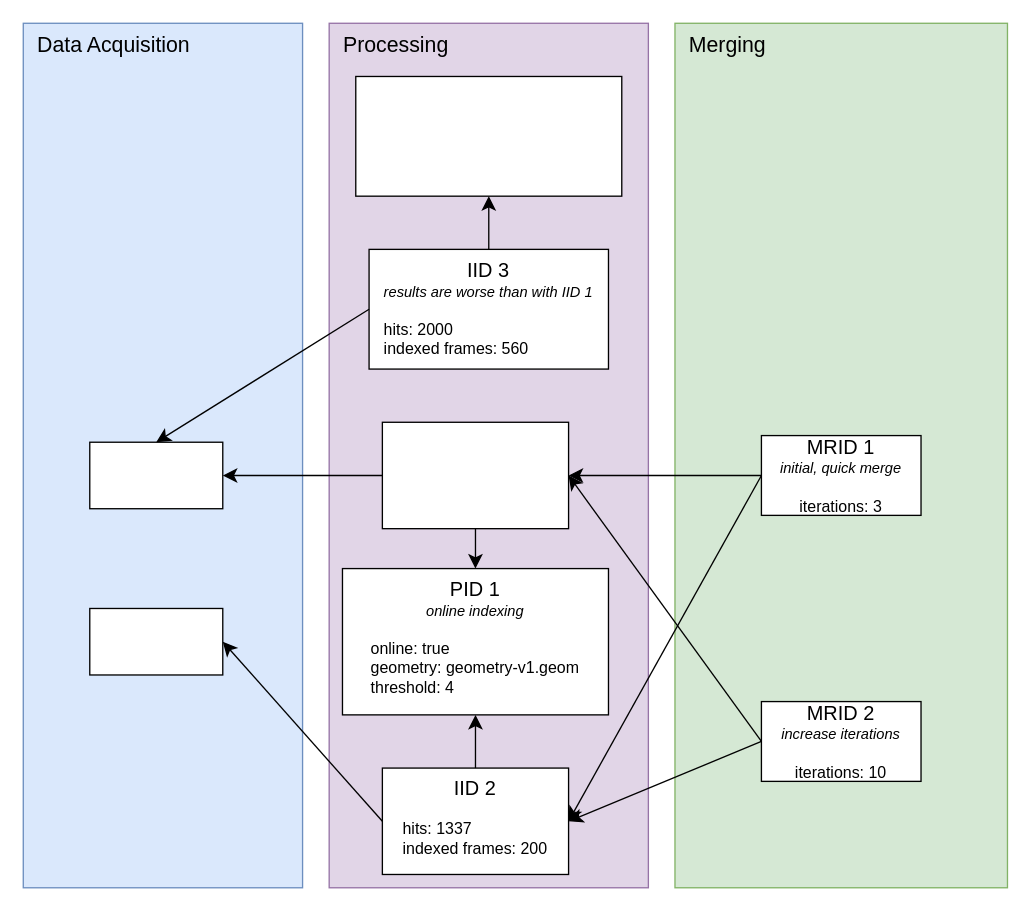
Image size: 1031x911. Some labels were removed from this diagram. Each missing label, with the centre of its shape:
IID 1 hits: 4000 indexed frames: 800: (475,475)
PID 2 try out some different parameters geometry: geometry-v2.geom threshold: 8: (488,135)
Run 1: (155,475)
Run 2: (155,641)
